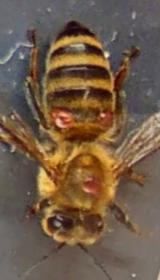varroa_mite: (74, 164, 109, 204), (43, 102, 78, 136), (90, 106, 121, 133)
